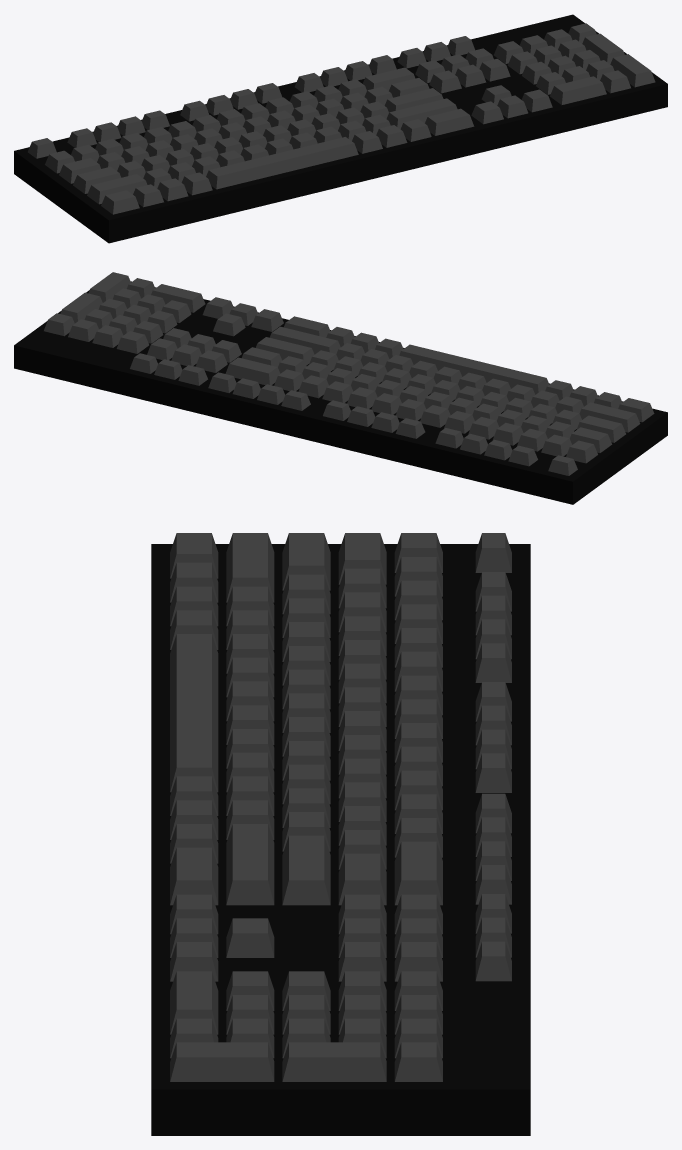
The model's file is Keyboard.fbx.
3 renders of one model, top to bottom at view 1: azimuth 30°, elevation 25°; view 2: azimuth 150°, elevation 25°; view 3: azimuth 270°, elevation 25°, orthographic. The views are drawn at different scales.
Parts seen in each view (by area): view 1: Cube; view 2: Cube; view 3: Cube.
Boxes of the visible parts, x1,y1,x2,y2 form: Cube: (14,14,667,243); Cube: (14,272,667,504); Cube: (151,533,530,1135).
Bounding box in the file's own units: 50.58 × 2.95 × 14.86.
